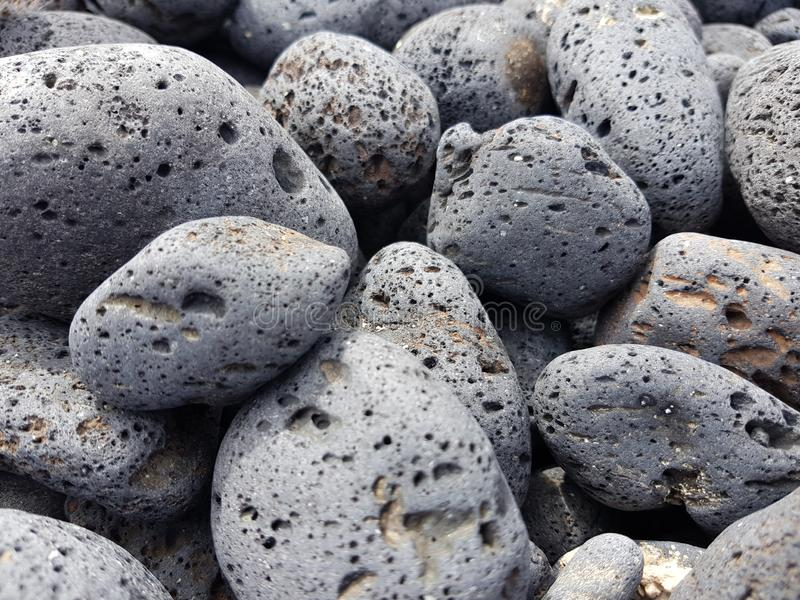volcanic_rock: (5, 46, 384, 323), (194, 337, 529, 600), (56, 207, 354, 409), (527, 1, 731, 239), (536, 339, 800, 520), (424, 126, 659, 295), (259, 23, 438, 205), (614, 216, 800, 371), (1, 325, 163, 497), (389, 7, 589, 139), (728, 28, 800, 247)
